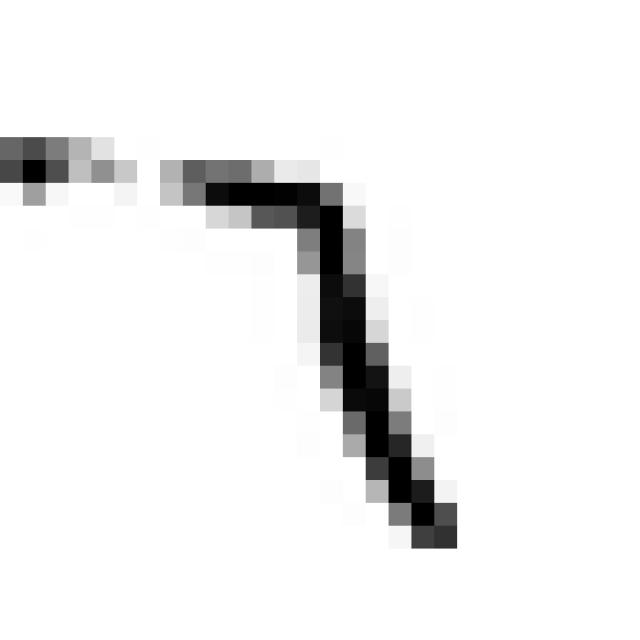6 -six-: (0, 117, 477, 571)
